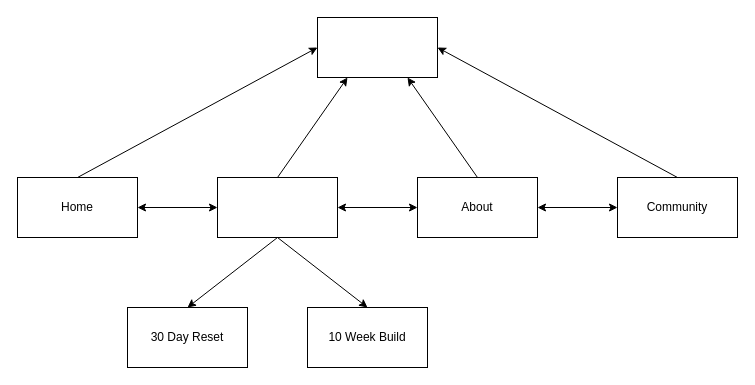
Image size: 755x385. Some labels were removed from this diagram. Here are the shapes that lost their labels. From the top down, the centre of each, then its label:
point (377, 47): Chatbot
point (277, 207): Systems
